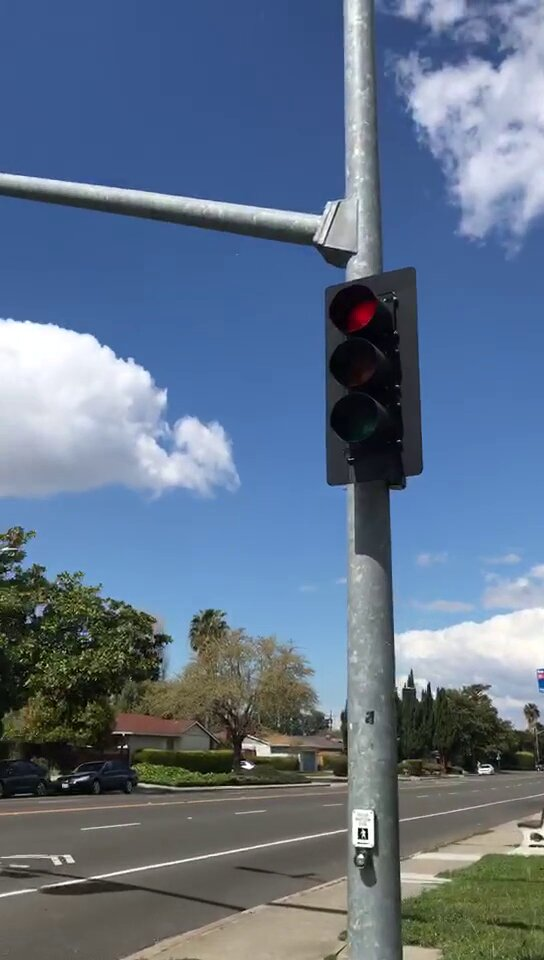red_light: (328, 284, 415, 474)
